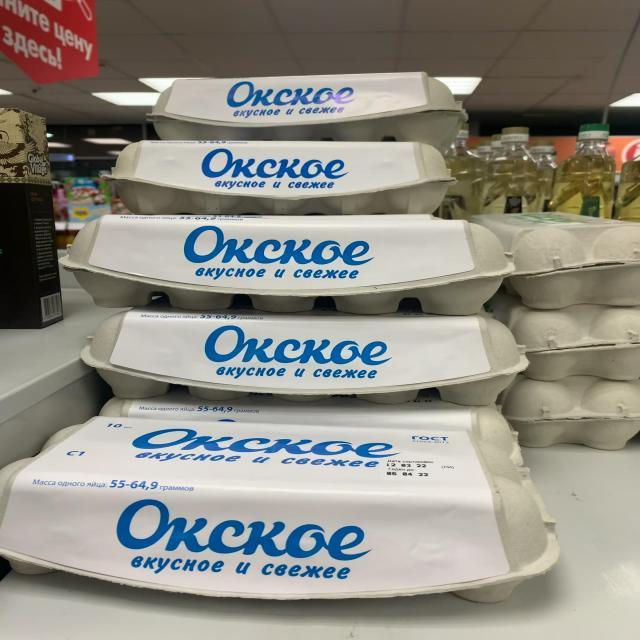egg box: (1, 415, 564, 606), (80, 308, 529, 409), (60, 216, 515, 315), (101, 137, 456, 221), (145, 71, 467, 156)
